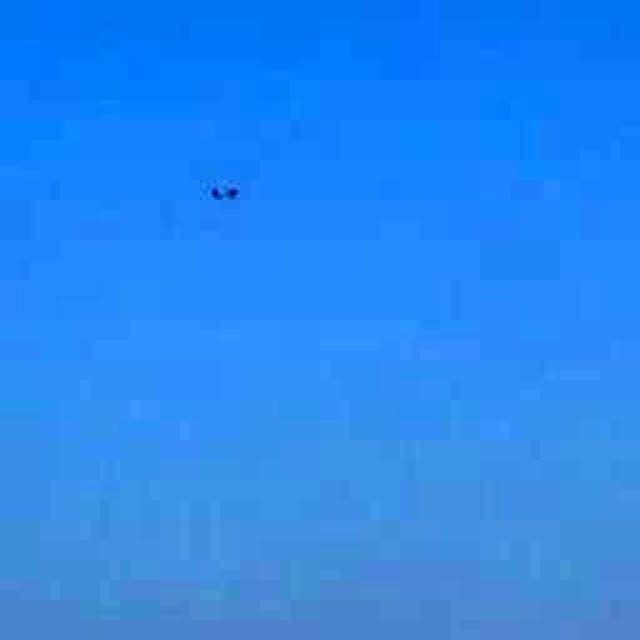bird: (188, 164, 260, 219)
